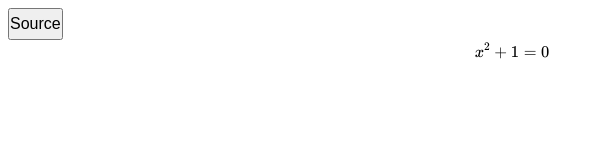
Test case: LatexView › shows the source on request and renders again
Click the button "Source".
click(35, 24)  # box [8, 8, 63, 40]
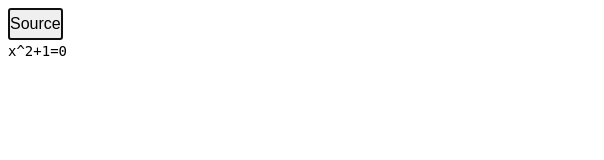
Now the element with class "latex__source" reads "x^2+1=0", box [8, 43, 67, 59]
Now the element with class "latex__body" is gone
Click the button "Source".
click(35, 24)  # box [8, 8, 63, 40]
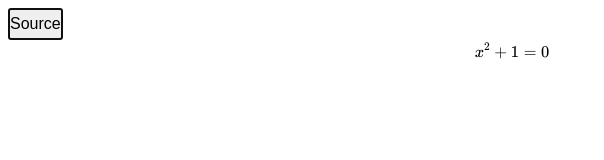
Now the element with class "katex" is shown, box [475, 40, 587, 61]
